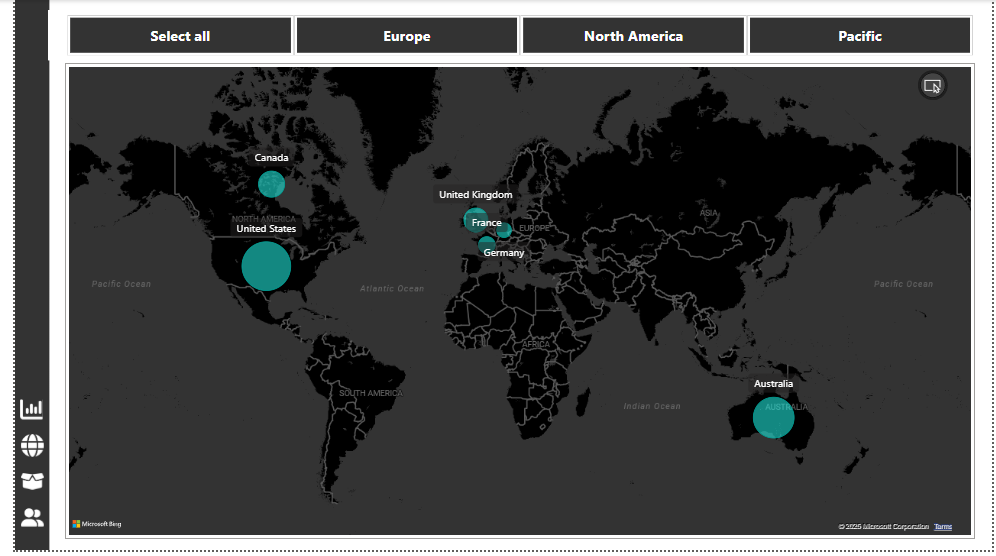

Layout of this report page (visuals, bound fields, positions):
{"tool":"powerbi","page":{"name":"Map","canvas":[1280,720],"ordinal":1},"visuals":[{"type":"shape","box":[0,0,45,720],"z":0},{"type":"actionButton","box":[0,449.6,45.6,45.6],"z":0,"group":"g1"},{"type":"map","fields":{"Category":["Territory Lookup.Country"]},"box":[83.8,79.9,1171.6,616.6],"z":1000},{"type":"actionButton","box":[0,581.8,45.6,45.6],"z":1000,"group":"g1"},{"type":"slicer","fields":{"Values":["Territory Lookup.Continent"]},"box":[55.8,0,1224,79.3],"z":2000},{"type":"actionButton","box":[0,650.9,45.6,45.6],"z":2000,"group":"g1"},{"type":"group","id":"g1","title":"Navigation Buttons","box":[0,449.6,45.6,246.9],"z":3000},{"type":"actionButton","box":[0,512.8,45.6,45.6],"z":3000,"group":"g1"}]}

Visuals, with their boxes on the page's 1280x720 design canvas (x1, y1, x2, y2). These are canvas units, not pixel positions in the 996x556 screenshot, which may show the page scaled, cropped or inside an application window:
shape: <bbox>0, 0, 45, 720</bbox>
actionButton: <bbox>0, 450, 46, 495</bbox>
map - Territory Lookup.Country: <bbox>84, 80, 1255, 696</bbox>
actionButton: <bbox>0, 582, 46, 627</bbox>
slicer - Territory Lookup.Continent: <bbox>56, 0, 1280, 79</bbox>
actionButton: <bbox>0, 651, 46, 696</bbox>
"Navigation Buttons" group: <bbox>0, 450, 46, 696</bbox>
actionButton: <bbox>0, 513, 46, 558</bbox>
